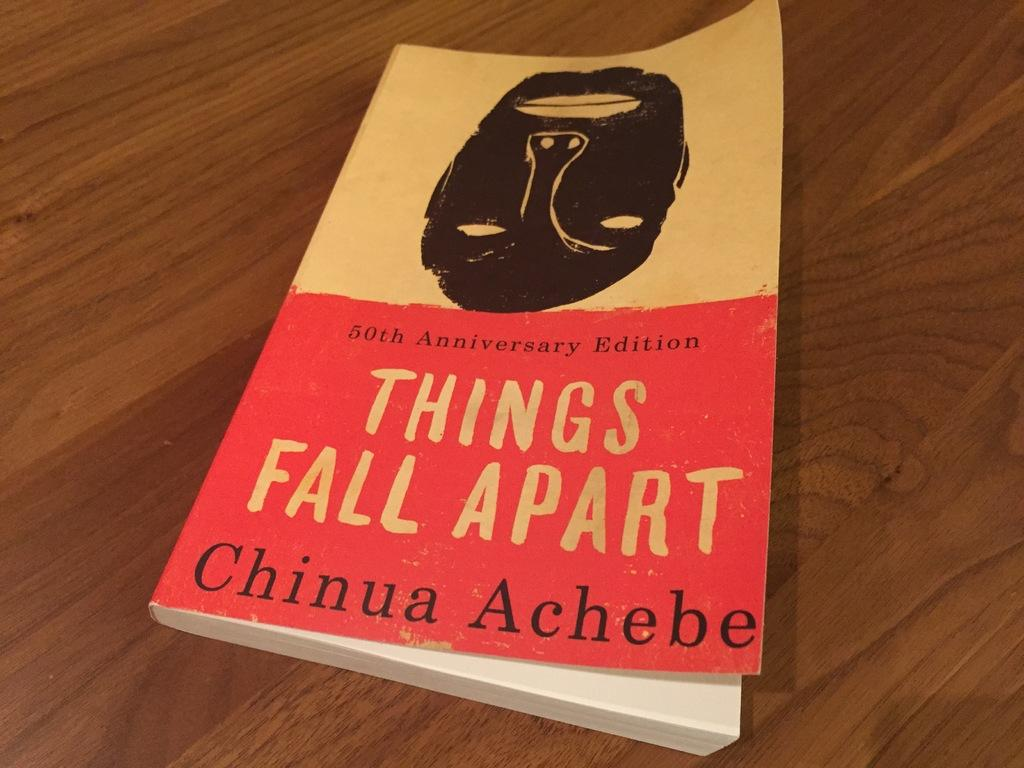book: (167, 47, 812, 756)
